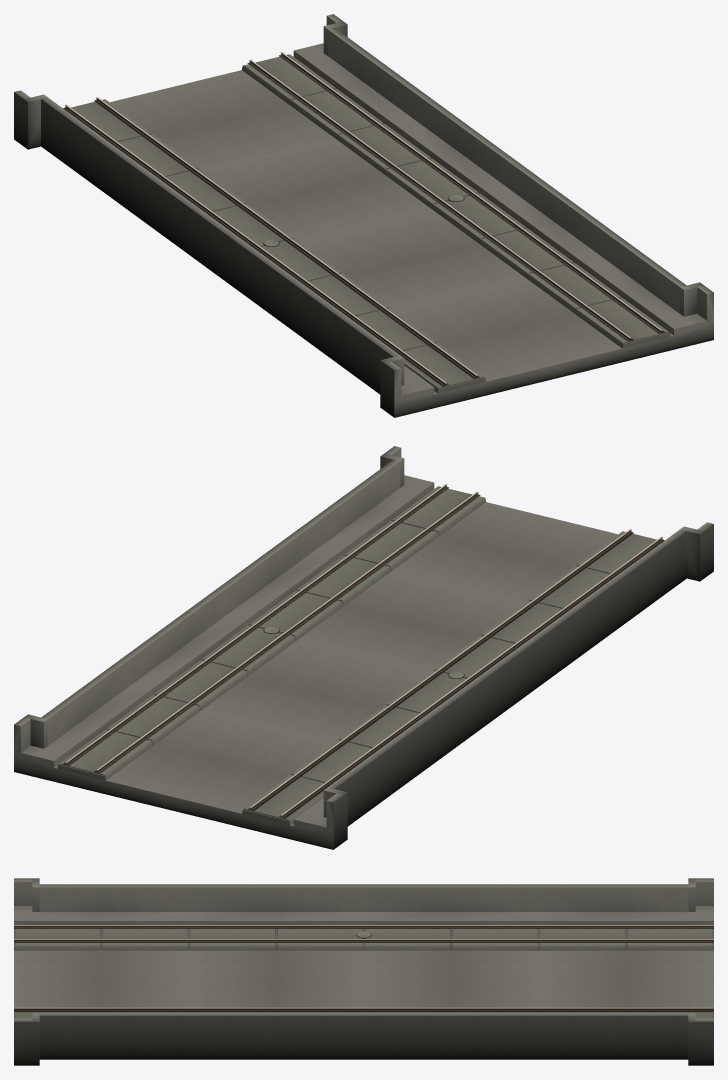
File: 2RAIL_TOYONAKA.glb
The picture shows the model from 3 angles, top to bottom: view 1: azimuth 30°, elevation 25°; view 2: azimuth 150°, elevation 25°; view 3: azimuth 270°, elevation 25°; orthographic projection. The views are drawn at different scales.
Visible parts, largest first — view 1: obj3; view 2: obj3; view 3: obj3.
Boxes of the visible parts, bbox=[...] form: obj3: bbox=[14, 14, 713, 417]; obj3: bbox=[14, 446, 713, 849]; obj3: bbox=[14, 878, 713, 1065].
Bounding box in the file's own units: 48.48 × 6.88 × 100.
4 materials, 3 textured.
